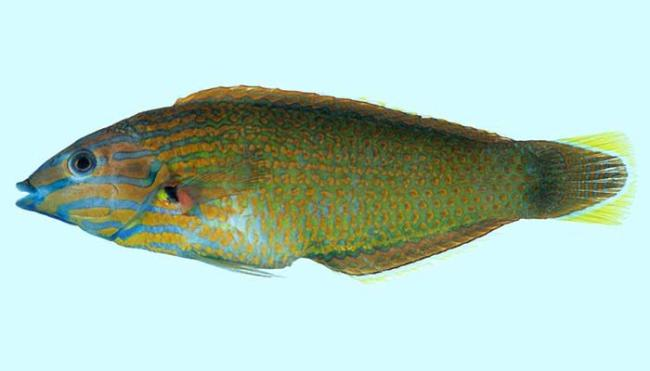fish: (15, 84, 639, 282)
